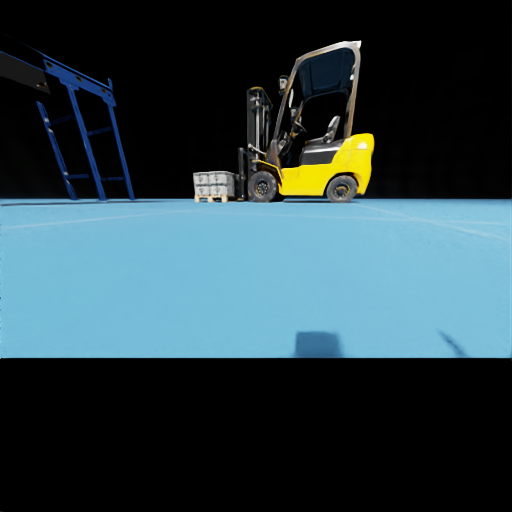transportation_area: (209, 183, 238, 194)
